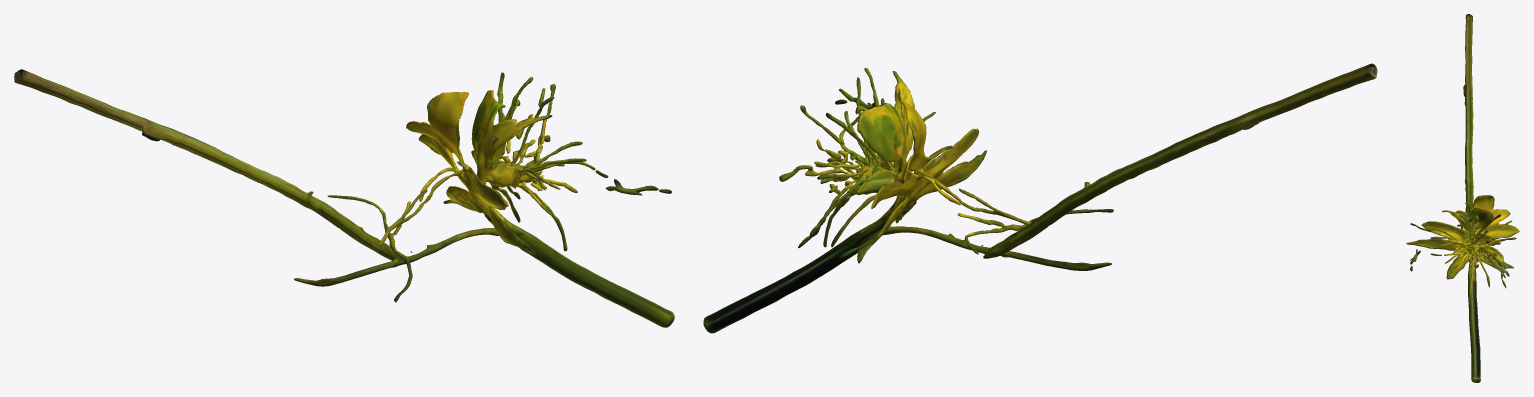
Rendered from shrub0088.gltf.
3 views of the same model, side by side, from view 1: azimuth 30°, elevation 25°; view 2: azimuth 150°, elevation 25°; view 3: azimuth 270°, elevation 25° (orthographic). The views are drawn at different scales.
Parts seen in each view (by area): view 1: Mesh_0.046; view 2: Mesh_0.046; view 3: Mesh_0.046.
Part boxes in pixels (left/top/right/bottom): Mesh_0.046: left=14, top=69, right=674, bottom=327; Mesh_0.046: left=703, top=63, right=1377, bottom=333; Mesh_0.046: left=1406, top=14, right=1519, bottom=382.
Size of the model in its own units: 2 by 1.21 by 0.592.
1 material, 1 textured.
